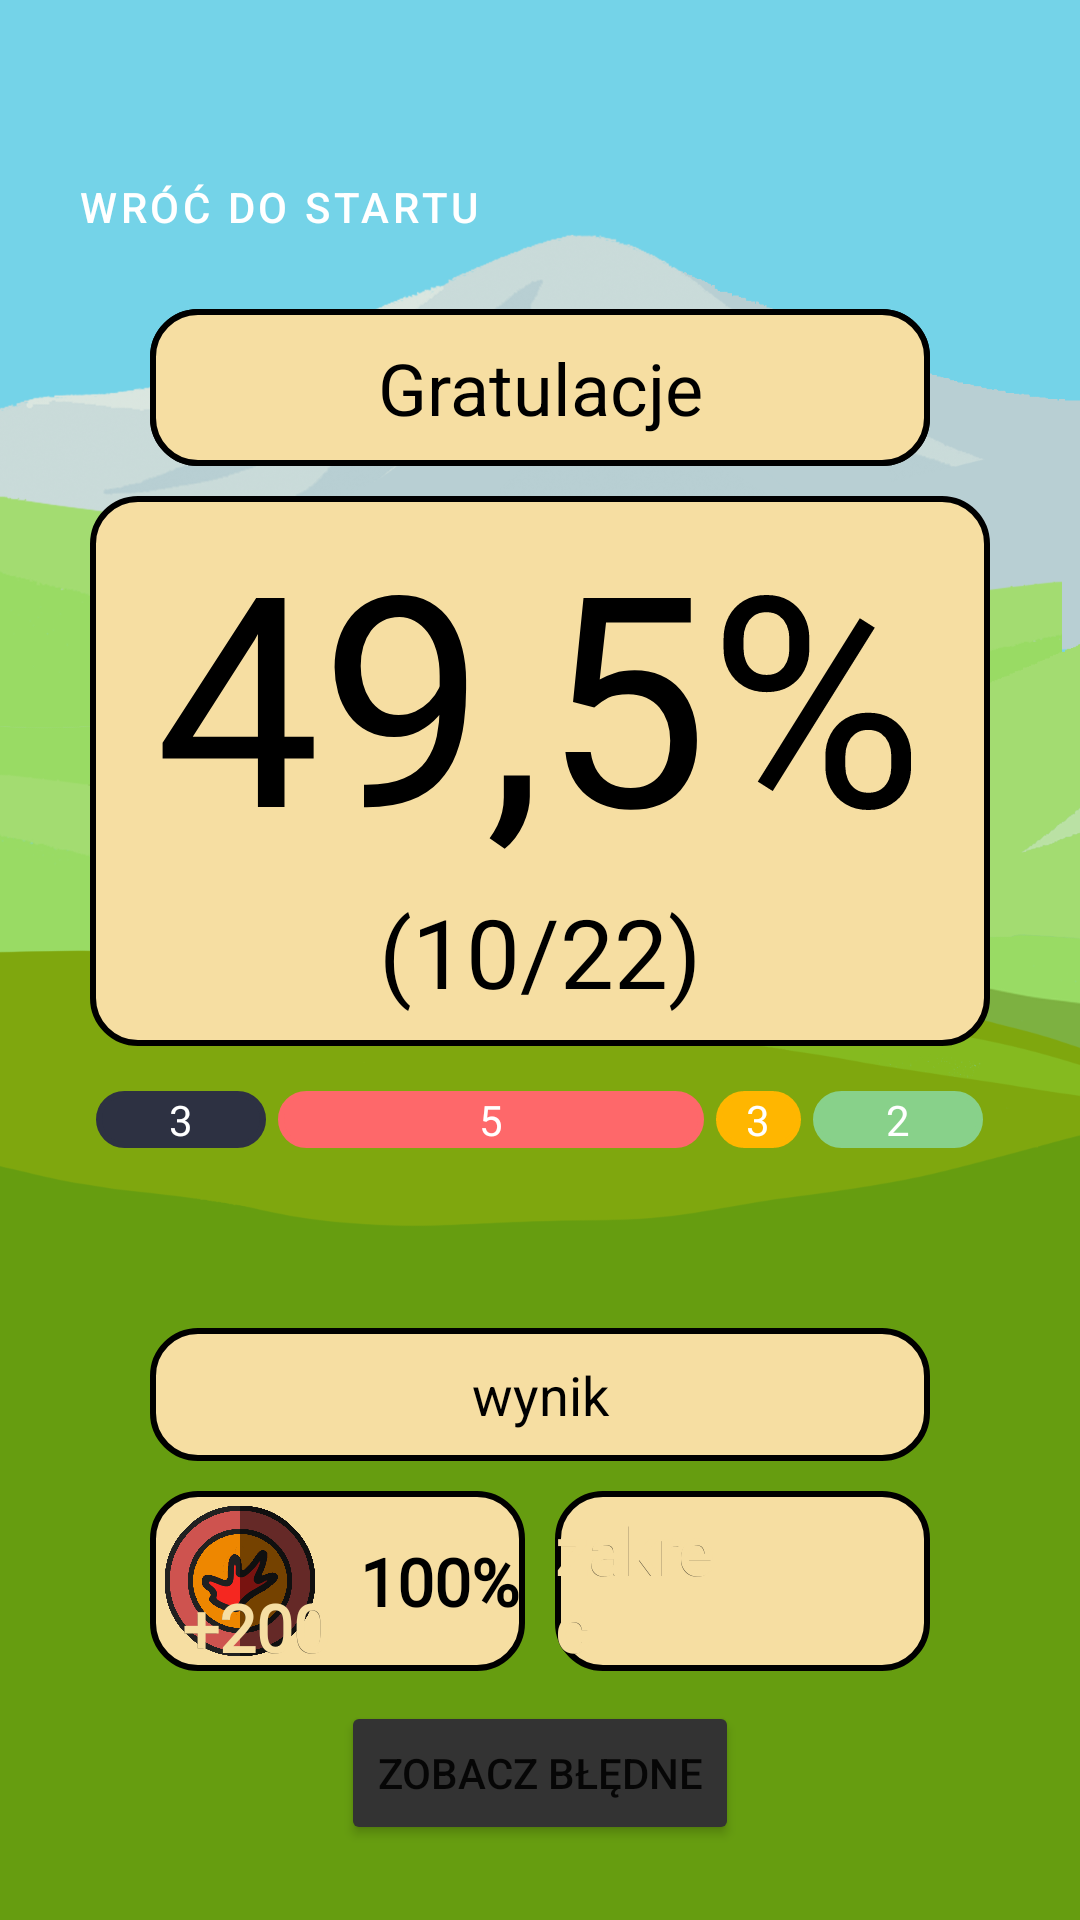

Icons on this 1080 × 1920 Android screen, each with its box as (x1, y1, x2, y2):
crococoin: (150, 1491, 330, 1671)
